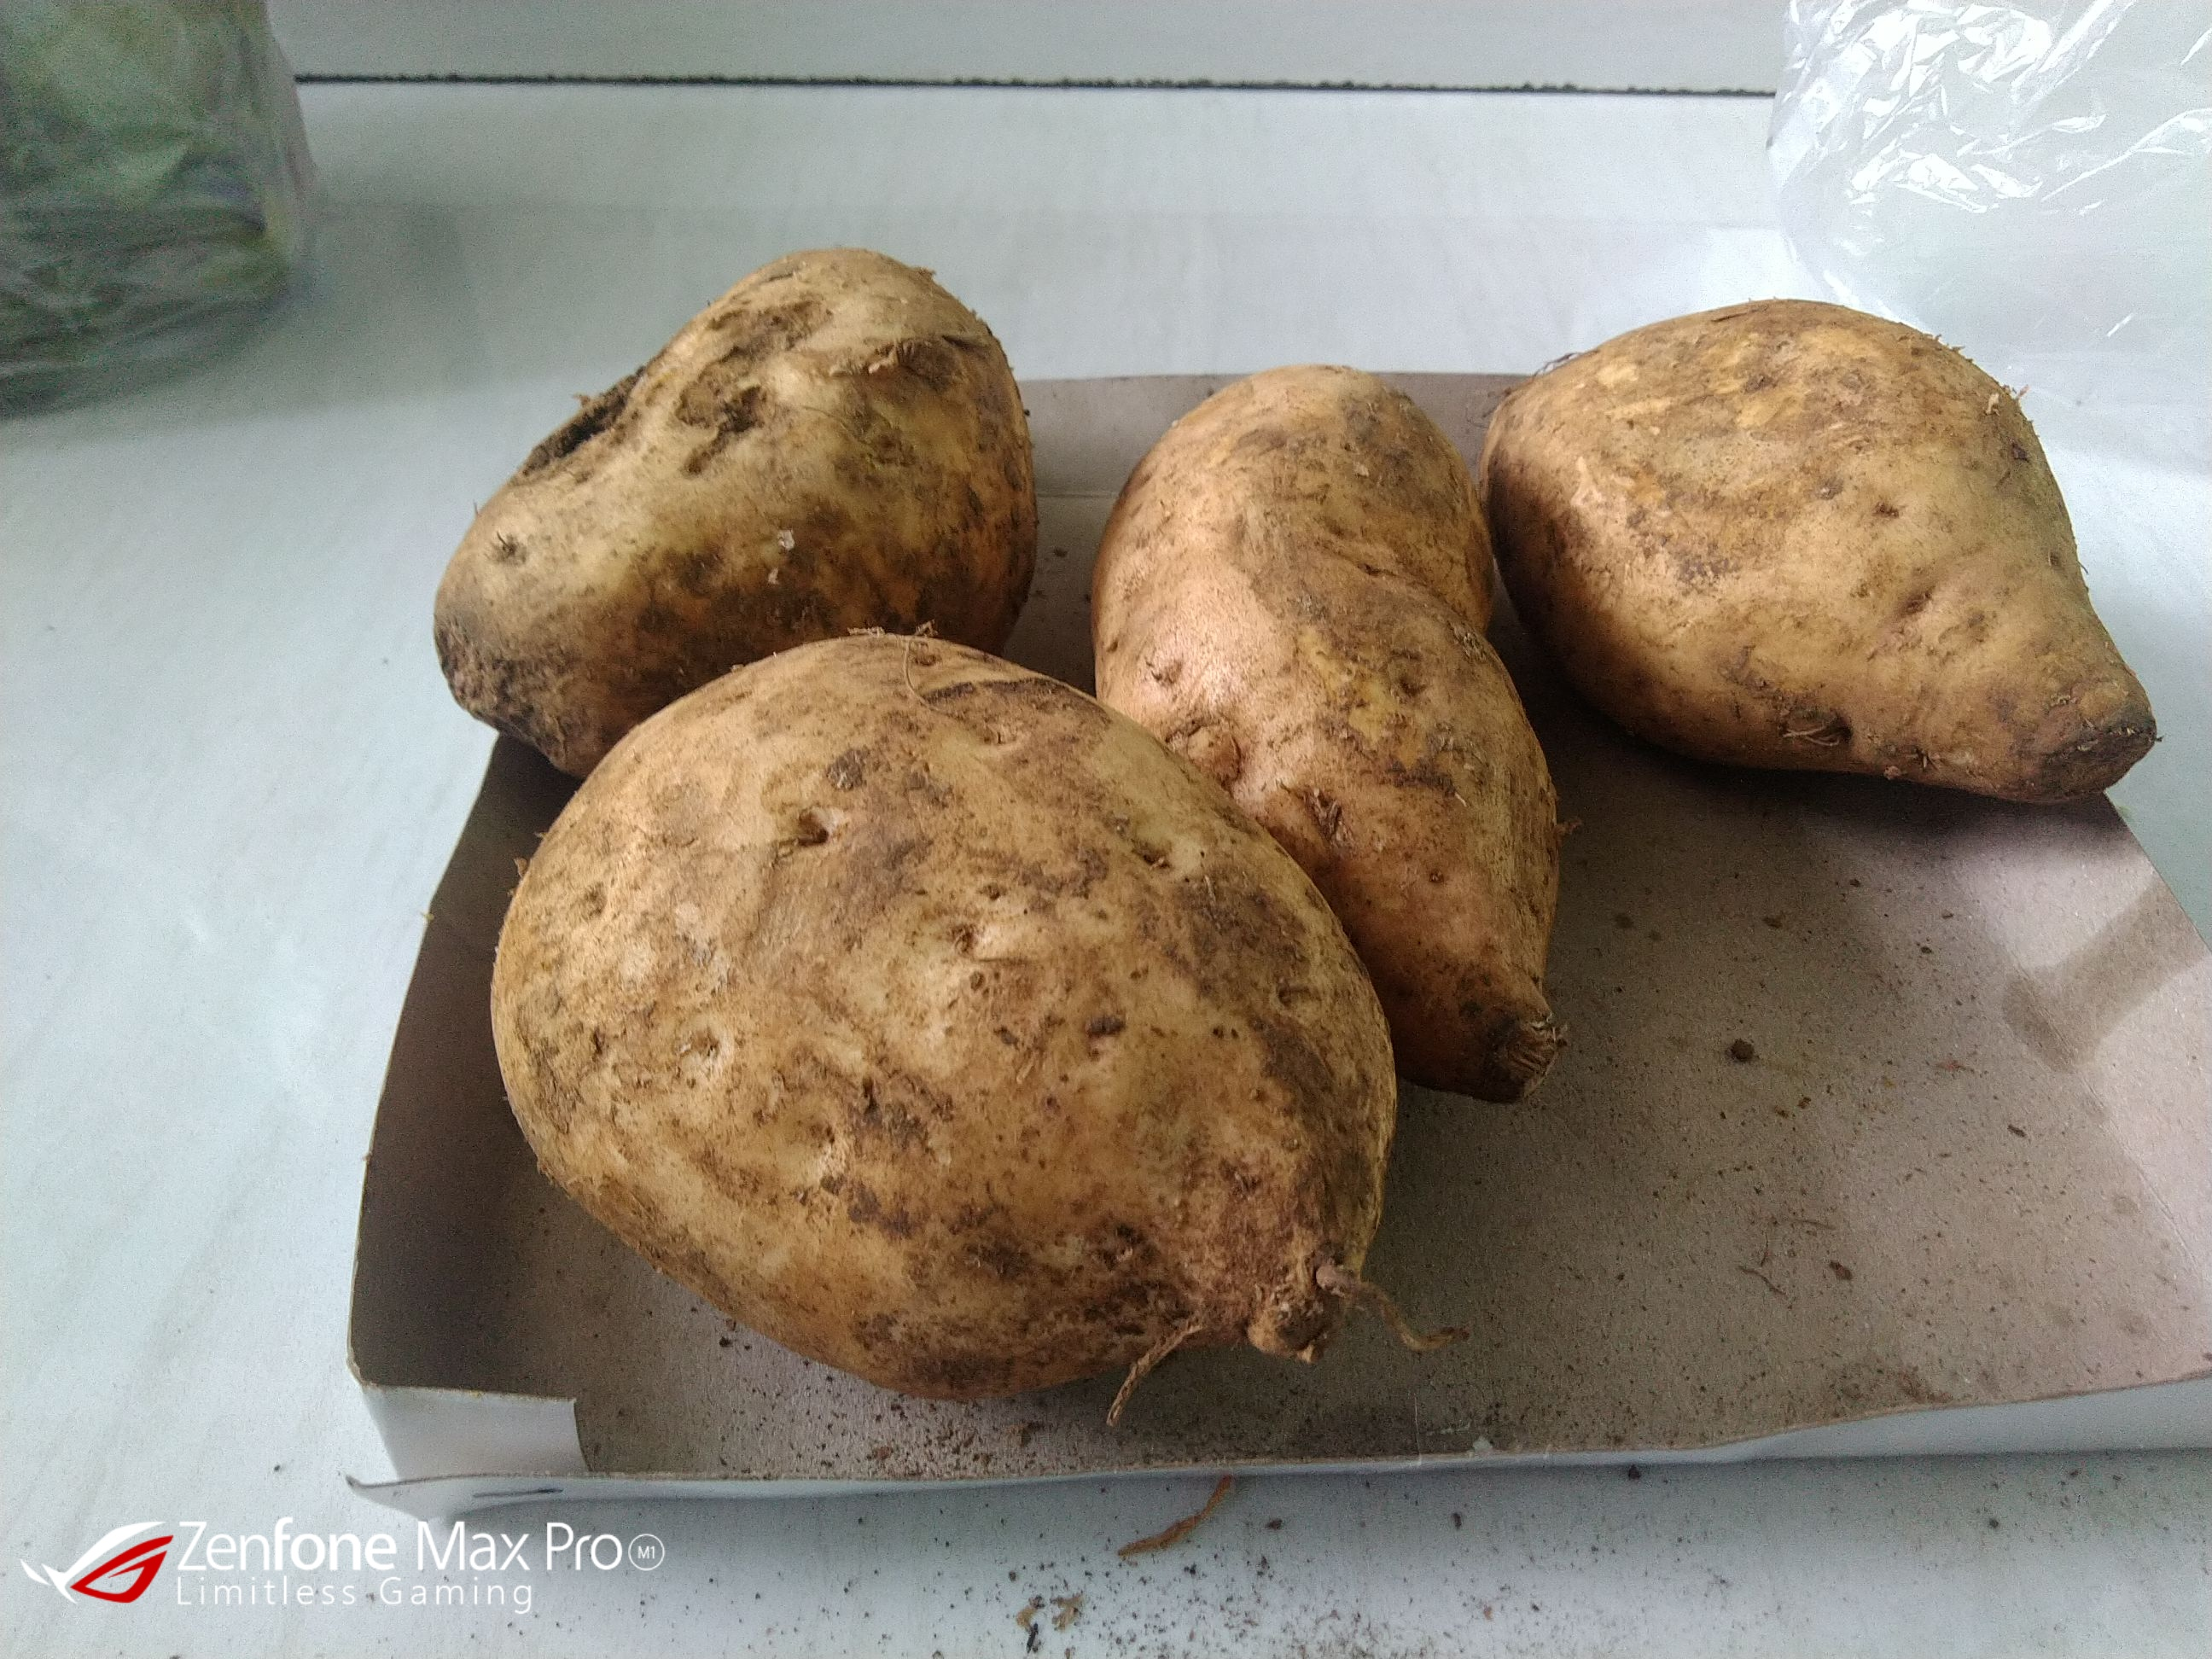ubi kuning: (481, 626, 1437, 1419), (1087, 357, 1604, 1084), (1461, 300, 2193, 795), (420, 232, 1052, 770)
